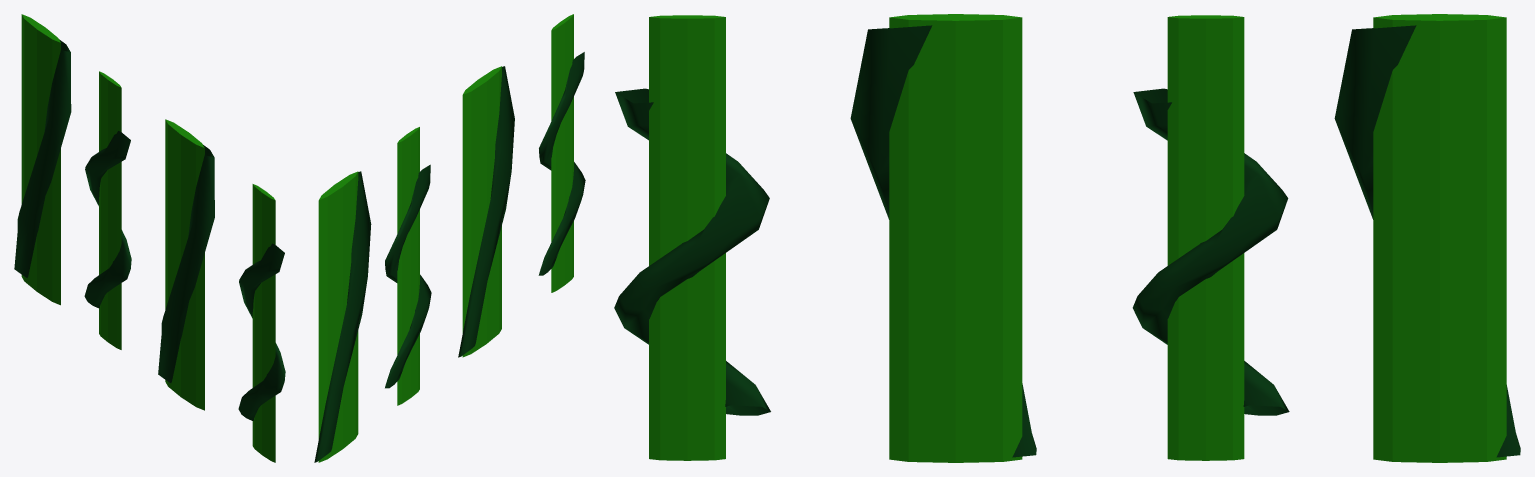
File: Leana3.fbx
3 renders of one model, left to right at view 1: azimuth 30°, elevation 25°; view 2: azimuth 150°, elevation 25°; view 3: azimuth 270°, elevation 25°, orthographic. The views are drawn at different scales.
Visible parts, largest first — view 1: Cylinder.003; view 2: Cylinder.003; view 3: Cylinder.003.
Boxes of the visible parts, x1,y1,x2,y2 form: Cylinder.003: [14, 14, 285, 462]; Cylinder.003: [314, 14, 585, 462]; Cylinder.003: [614, 14, 1520, 462].
Bounding box in the file's own units: 24.98 × 397 × 737.
